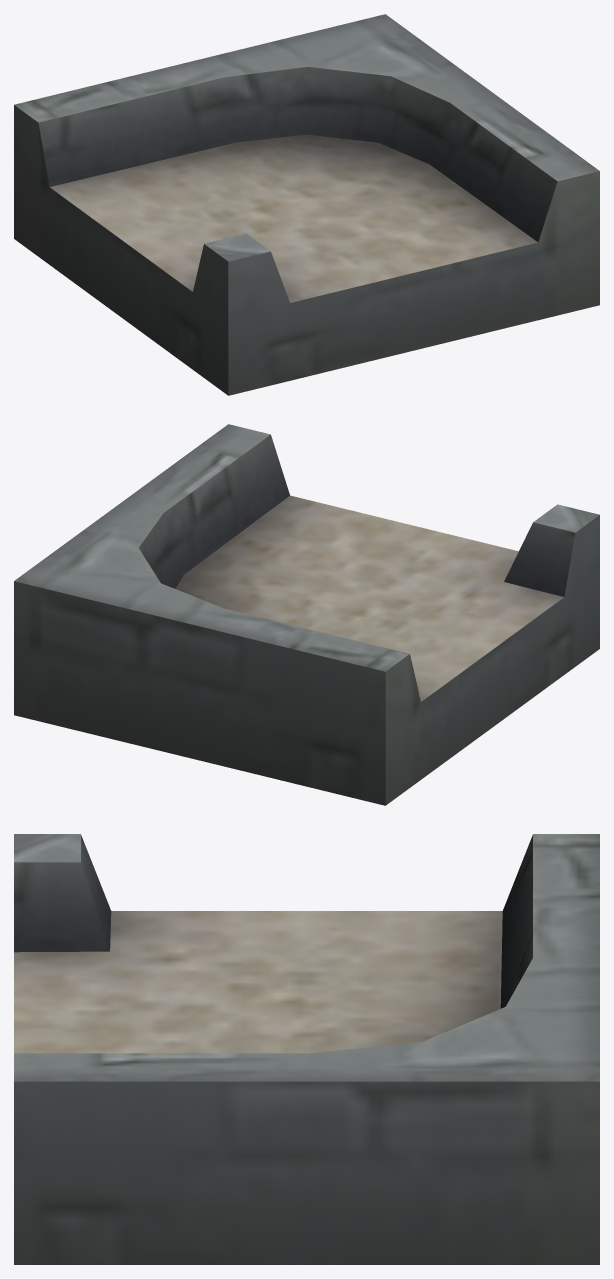
File: med_tile_corner.obj
3 renders of one model, top to bottom at view 1: azimuth 30°, elevation 25°; view 2: azimuth 150°, elevation 25°; view 3: azimuth 270°, elevation 25°, orthographic. The views are drawn at different scales.
Parts seen in each view (by area): view 1: tile_corner; view 2: tile_corner; view 3: tile_corner.
Part boxes in pixels (x1,y1,x2,y2): tile_corner: (14, 14, 599, 395); tile_corner: (14, 424, 599, 805); tile_corner: (14, 834, 599, 1264).
Bounding box in the file's own units: 1 × 0.345 × 1.
1 material, 1 textured.
